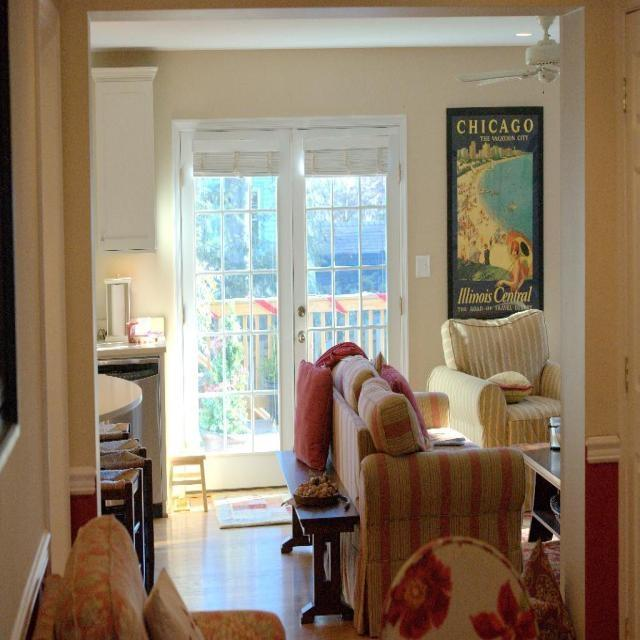door: (170, 116, 410, 492)
